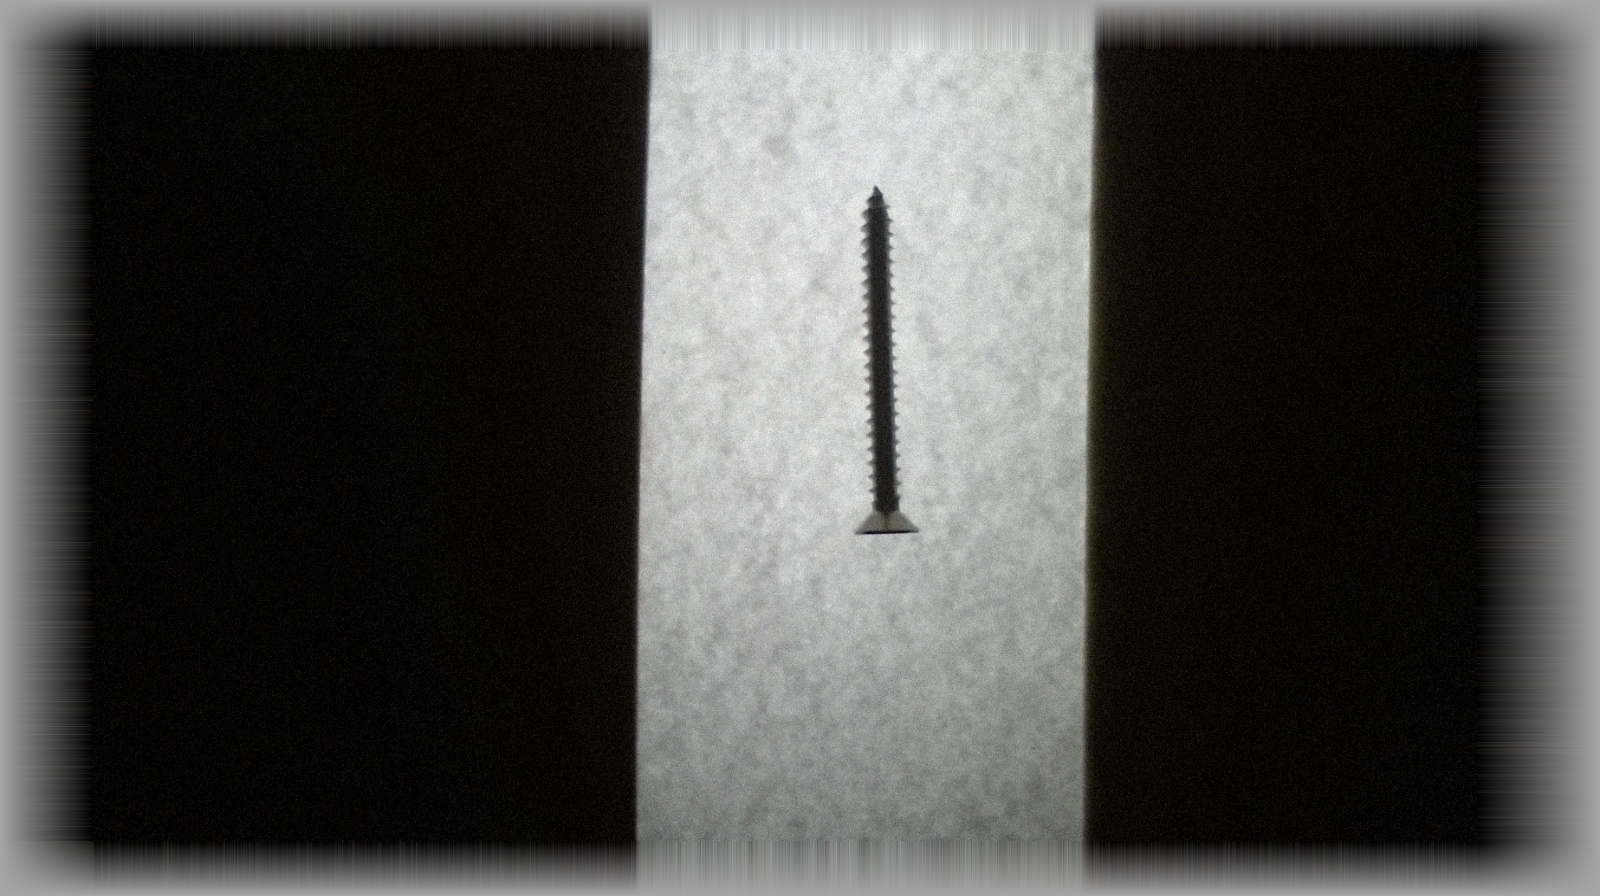S002: (823, 178, 951, 549)
